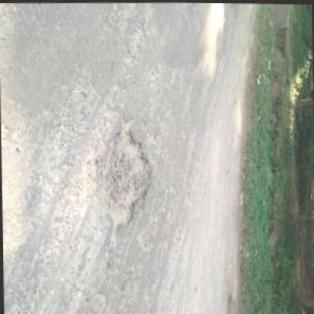Hueco: (94, 114, 155, 235)
